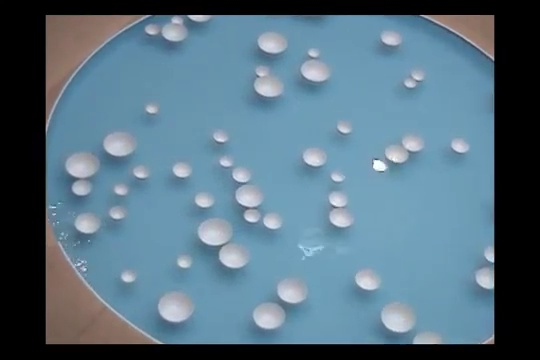bowl: (156, 290, 195, 323), (379, 301, 418, 332), (197, 217, 233, 247), (65, 151, 100, 180), (103, 131, 139, 159), (275, 276, 310, 304), (252, 302, 287, 330), (217, 242, 251, 270), (256, 30, 287, 57), (300, 59, 331, 86), (252, 75, 285, 100), (234, 184, 265, 209), (353, 268, 382, 291), (74, 212, 101, 235), (162, 22, 190, 43), (328, 206, 354, 228), (384, 144, 411, 165), (302, 146, 327, 168), (379, 29, 403, 51), (401, 133, 426, 154), (475, 264, 494, 290), (412, 330, 443, 344), (263, 211, 284, 231), (450, 137, 471, 155), (328, 190, 350, 207), (194, 191, 214, 209), (232, 166, 253, 183), (172, 162, 194, 178), (72, 179, 92, 196), (243, 208, 261, 225), (133, 164, 151, 180), (211, 129, 230, 144), (336, 119, 355, 134), (177, 253, 193, 270), (110, 206, 128, 221), (187, 13, 214, 23), (218, 154, 235, 169), (120, 269, 137, 283), (412, 68, 427, 83), (114, 183, 130, 197), (145, 23, 161, 37), (254, 65, 270, 78), (403, 77, 418, 90), (331, 170, 346, 183), (484, 246, 494, 265), (307, 47, 322, 59), (145, 104, 161, 115), (171, 14, 185, 25)
